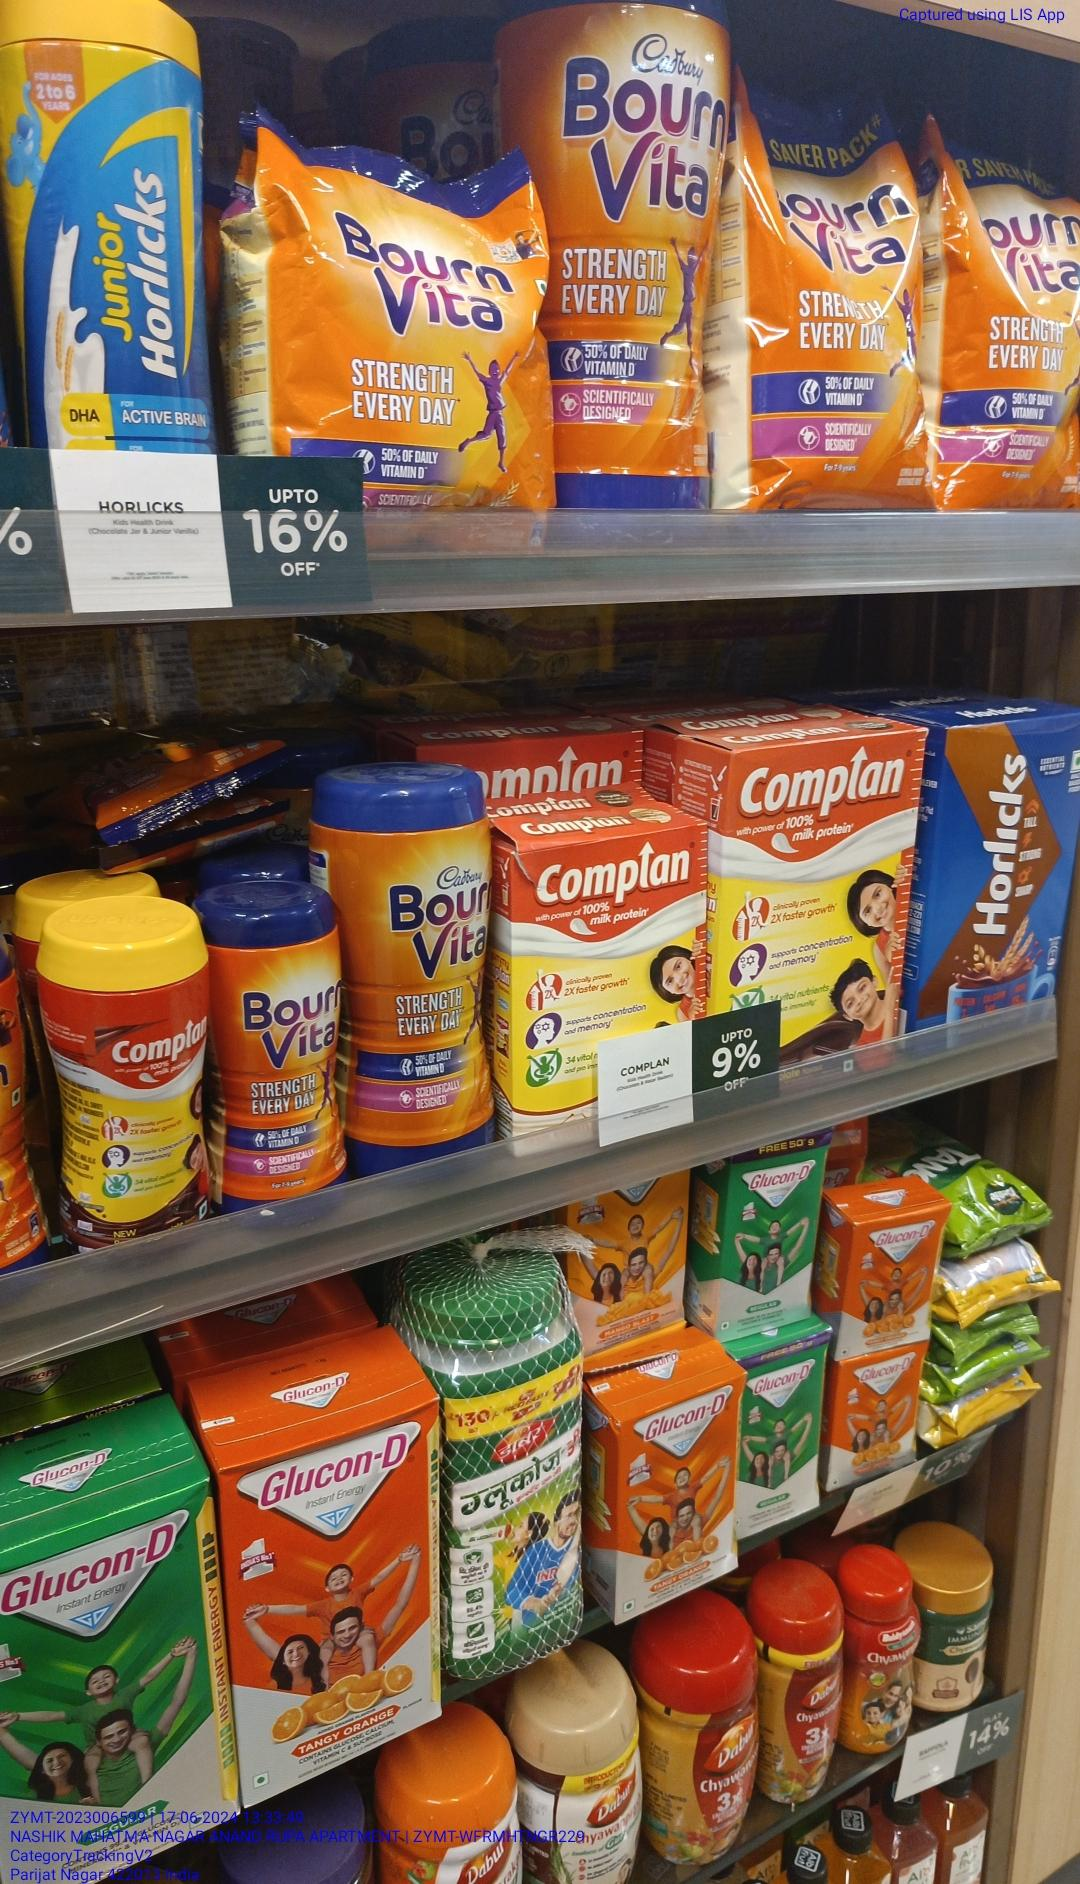BOURN_VITA_1_KG_POUCH: (748, 87, 930, 512)
BOURN_VITA_200_G_JAR: (222, 893, 348, 1202)
BOURN_VITA_500_G_JAR: (573, 4, 727, 511), (353, 776, 488, 1157)
BOURN_VITA_500_G_POUCH: (233, 107, 561, 455)
COMPLAN_CHOCOLATE_200_GMS_JAR: (49, 915, 211, 1254)
COMPLAN_KESAR_BADAM_500_GMS_PACK: (513, 833, 707, 1021)
HORLICKS_JUNIOR_VANILLA_500_GM_JAR: (4, 0, 215, 452)
HORLICK_CHOCOLATE_500_G_PACK: (925, 709, 1075, 1024)
